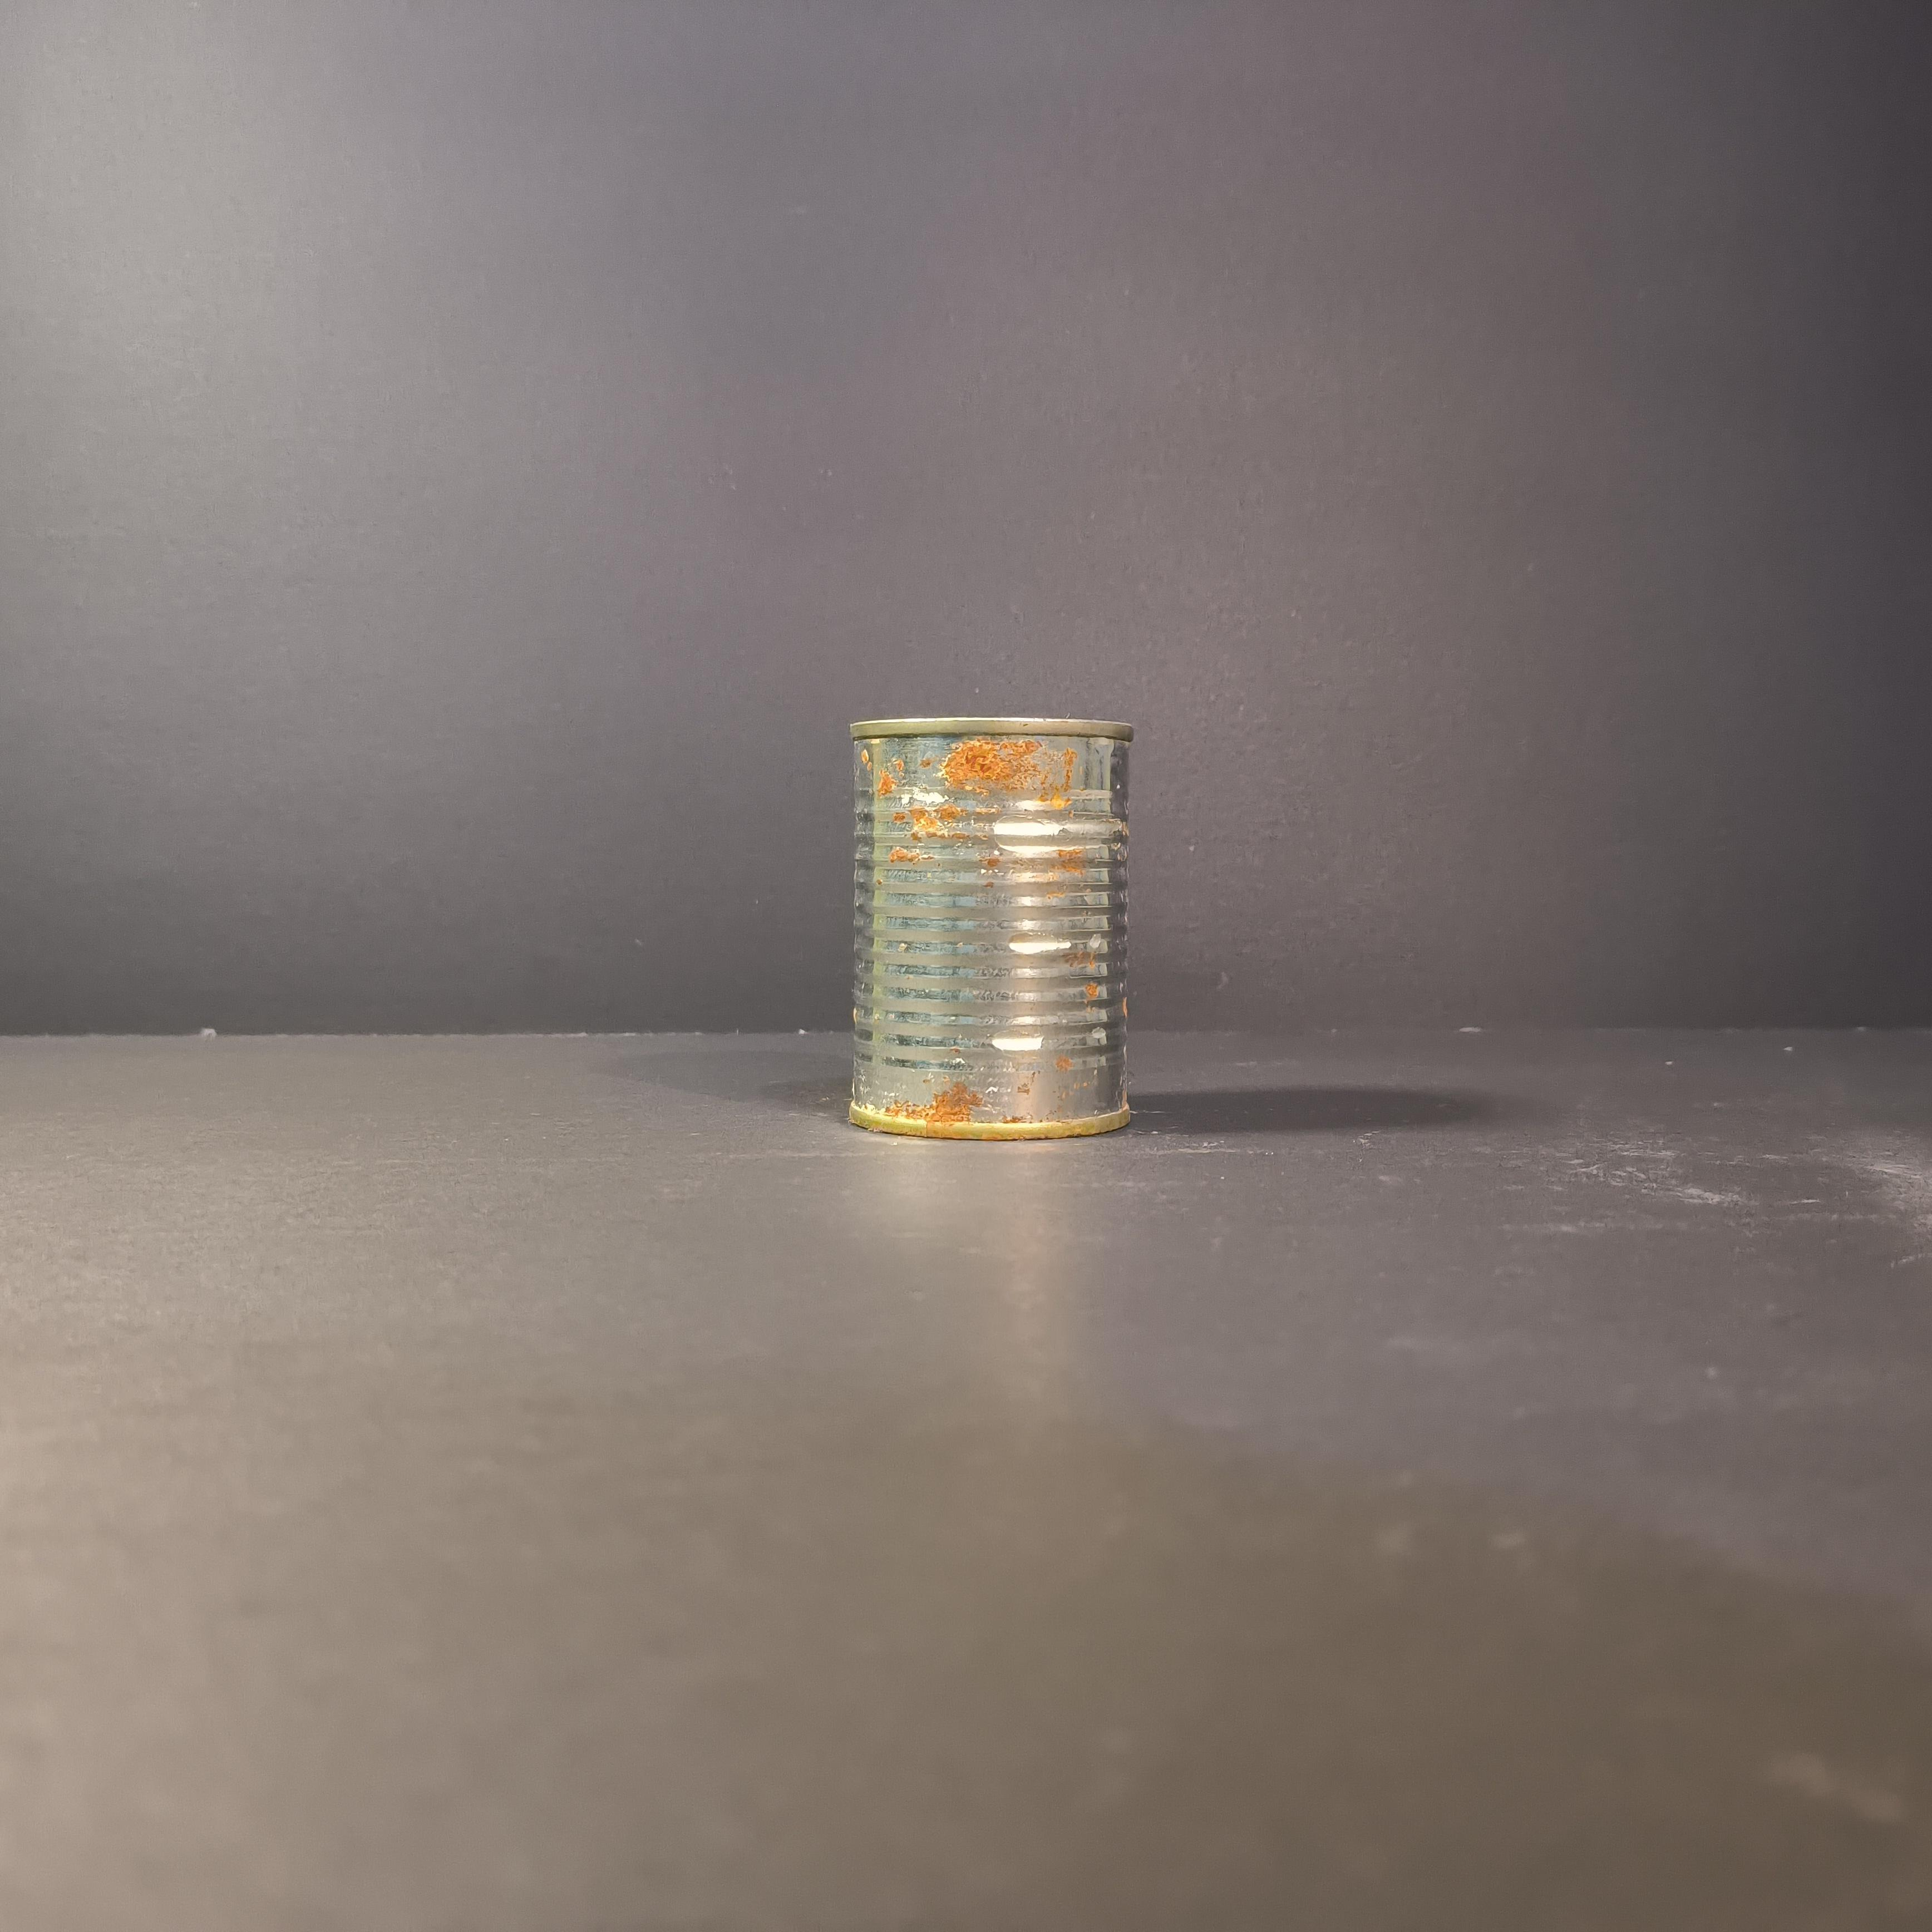Rusted: (829, 687, 1149, 1163)
